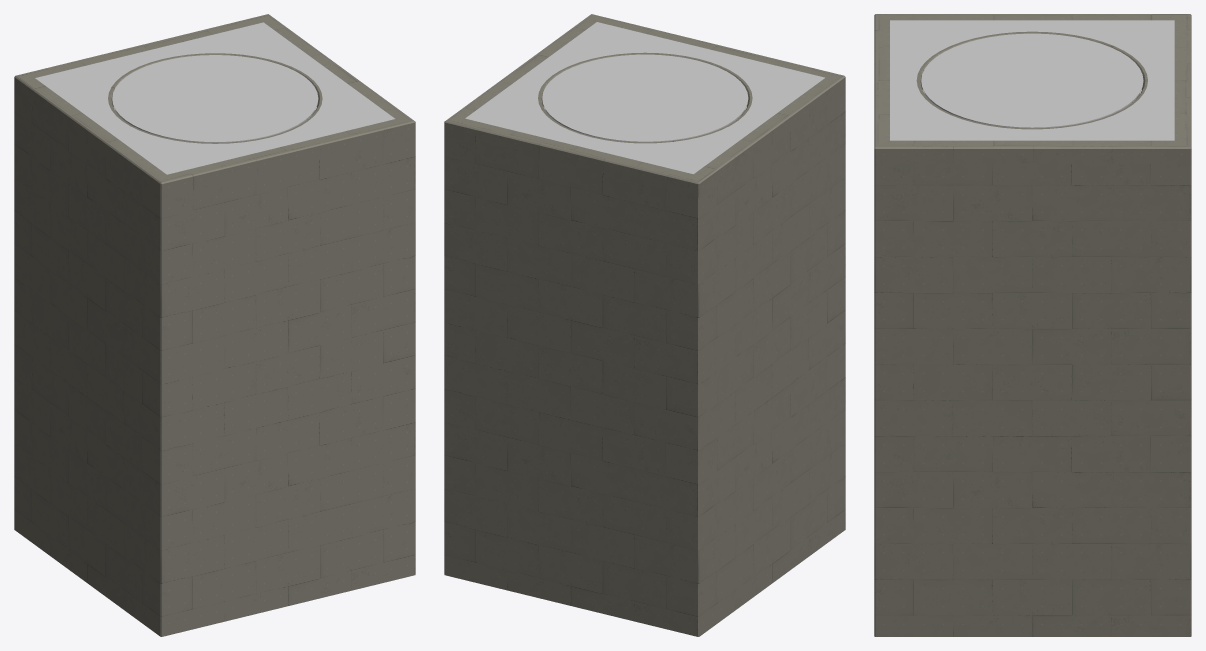
File: PlatformLargeColumn2OscY.fbx
The picture shows the model from 3 angles, left to right: view 1: azimuth 30°, elevation 25°; view 2: azimuth 150°, elevation 25°; view 3: azimuth 270°, elevation 25°; orthographic projection. The views are drawn at different scales.
Visible parts, largest first — view 1: PlatformLargeColumn2OscY_floor, MediumPlatform, SmallPlatform; view 2: PlatformLargeColumn2OscY_floor, MediumPlatform, SmallPlatform; view 3: PlatformLargeColumn2OscY_floor, MediumPlatform, SmallPlatform.
Boxes of the visible parts, x1,y1,x2,y2 form: PlatformLargeColumn2OscY_floor: (14,14,415,636); MediumPlatform: (112,55,318,142); SmallPlatform: (168,78,262,118); PlatformLargeColumn2OscY_floor: (444,14,845,636); MediumPlatform: (542,54,748,142); SmallPlatform: (598,78,692,117); PlatformLargeColumn2OscY_floor: (874,14,1191,636); MediumPlatform: (921,33,1143,128); SmallPlatform: (981,59,1082,101).
Size of what is drawn, in the model's own units: 500 by 850 by 500.
